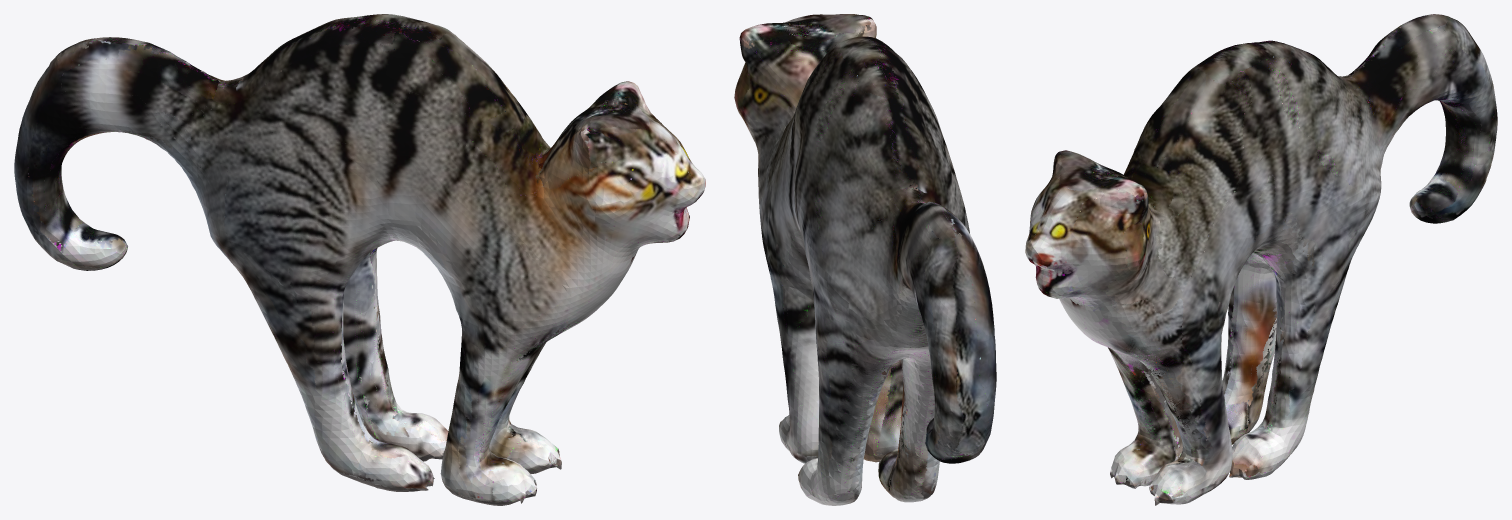
The model's file is angry_cat1_m0.glb.
The picture shows the model from 3 angles, left to right: view 1: azimuth 30°, elevation 25°; view 2: azimuth 150°, elevation 25°; view 3: azimuth 270°, elevation 25°; orthographic projection. The views are drawn at different scales.
Parts seen in each view (by area): view 1: mesh; view 2: mesh; view 3: mesh.
Part boxes in pixels (box(x1,y1,x2,y2)): mesh: box(14, 14, 705, 505); mesh: box(734, 14, 996, 505); mesh: box(1025, 14, 1497, 505).
Size of the model in its own units: 0.806 by 0.773 by 0.8076.
Materials: 1 (1 with a texture image).
